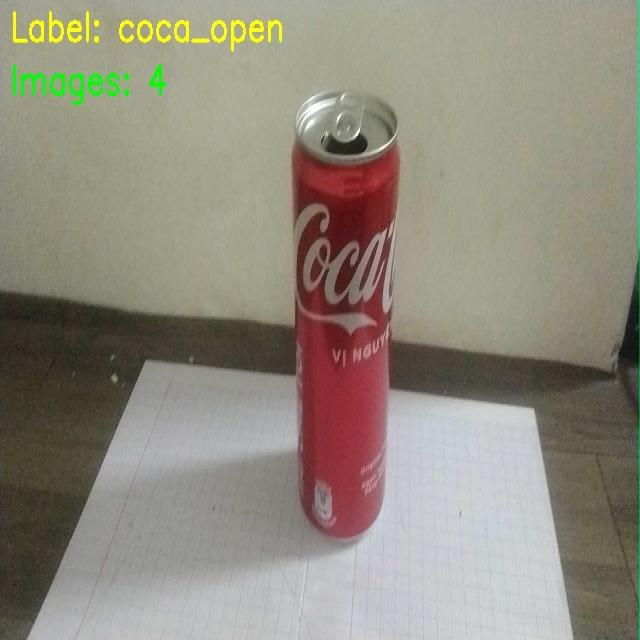Coca_open: (277, 70, 430, 550)
